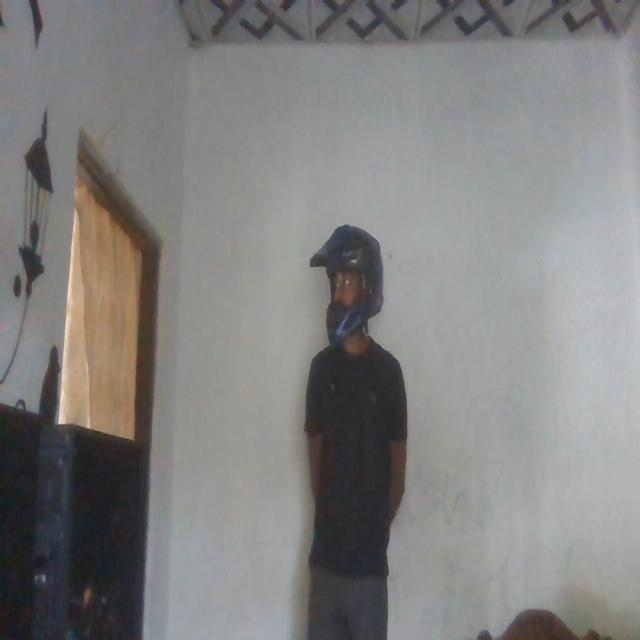Helmet_Wearer: (304, 214, 385, 360)
Person: (294, 240, 410, 640)
